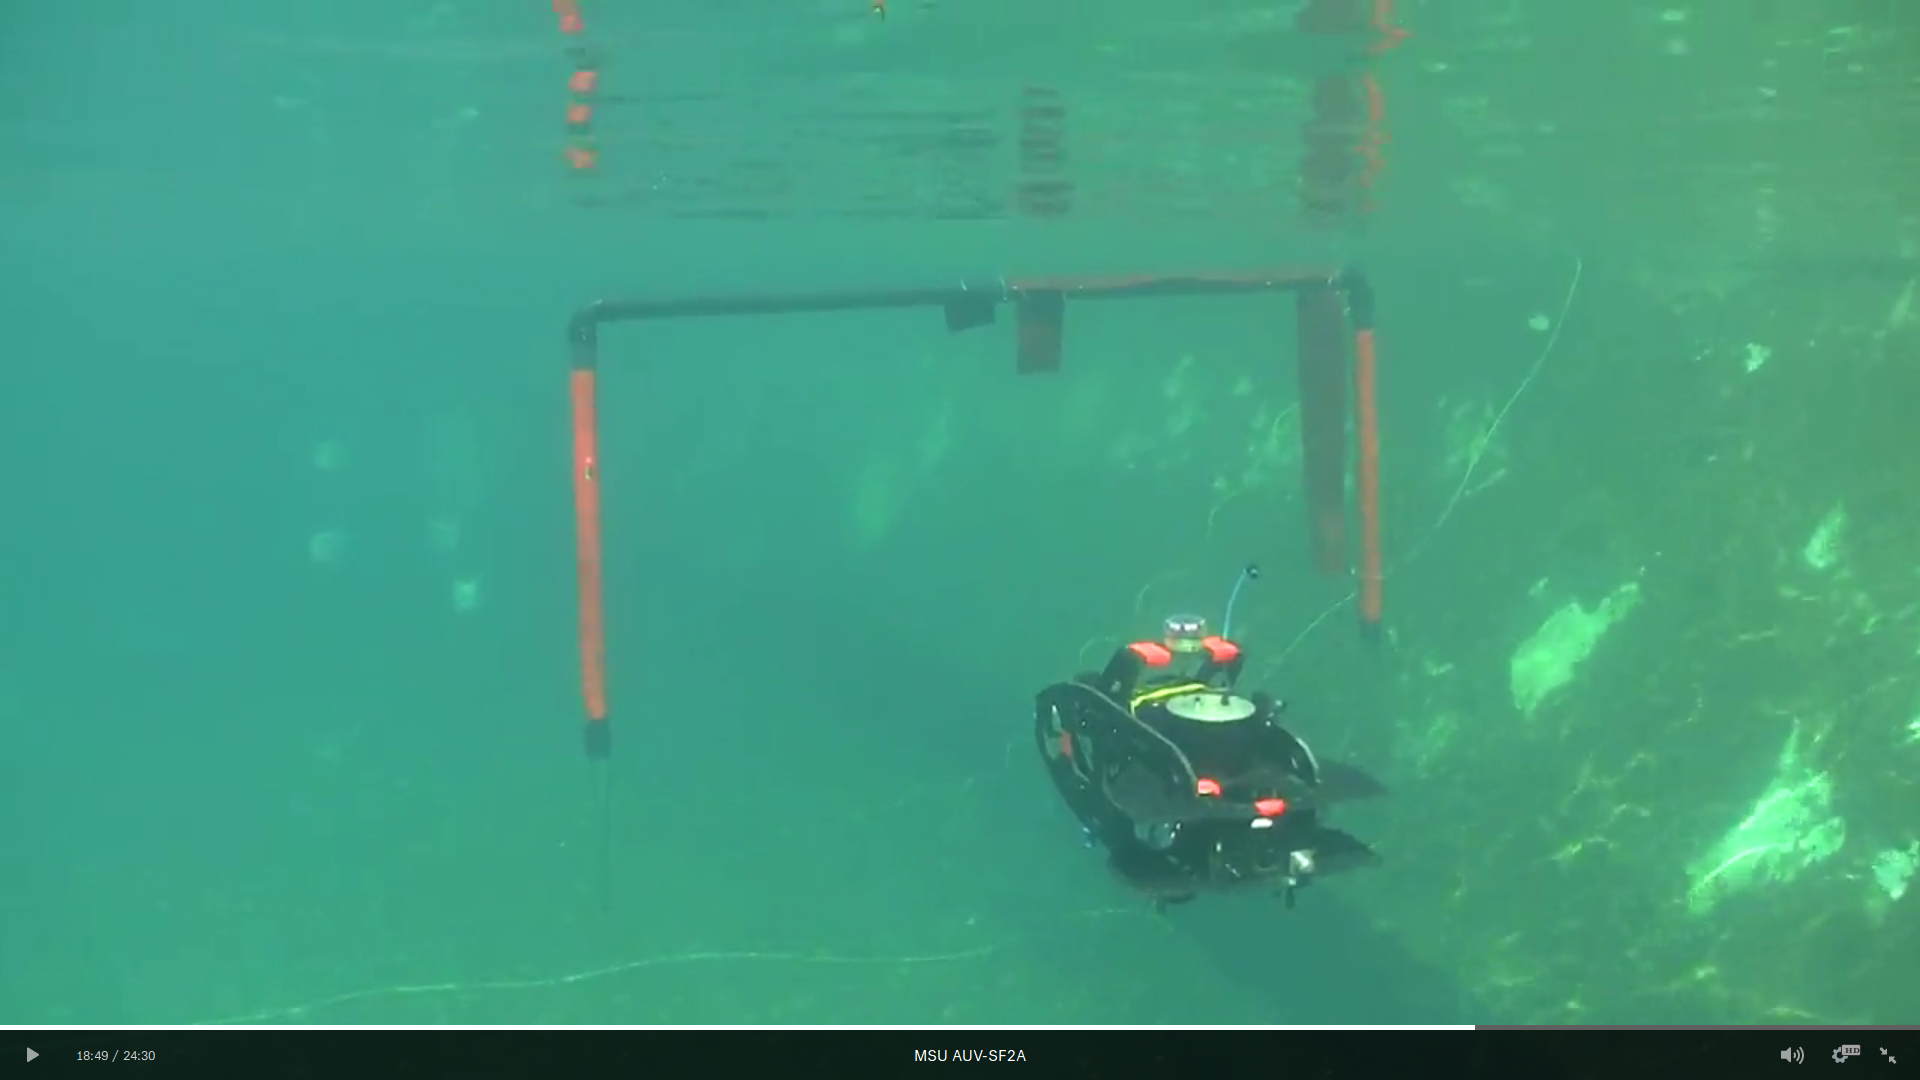gate: (553, 246, 1420, 693)
